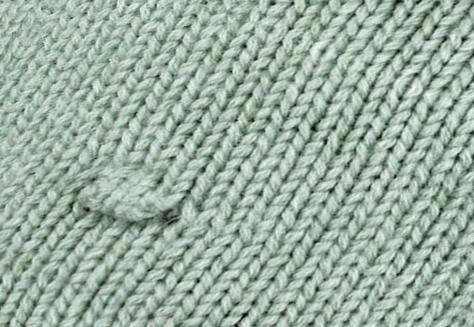knot: (72, 164, 188, 230)
